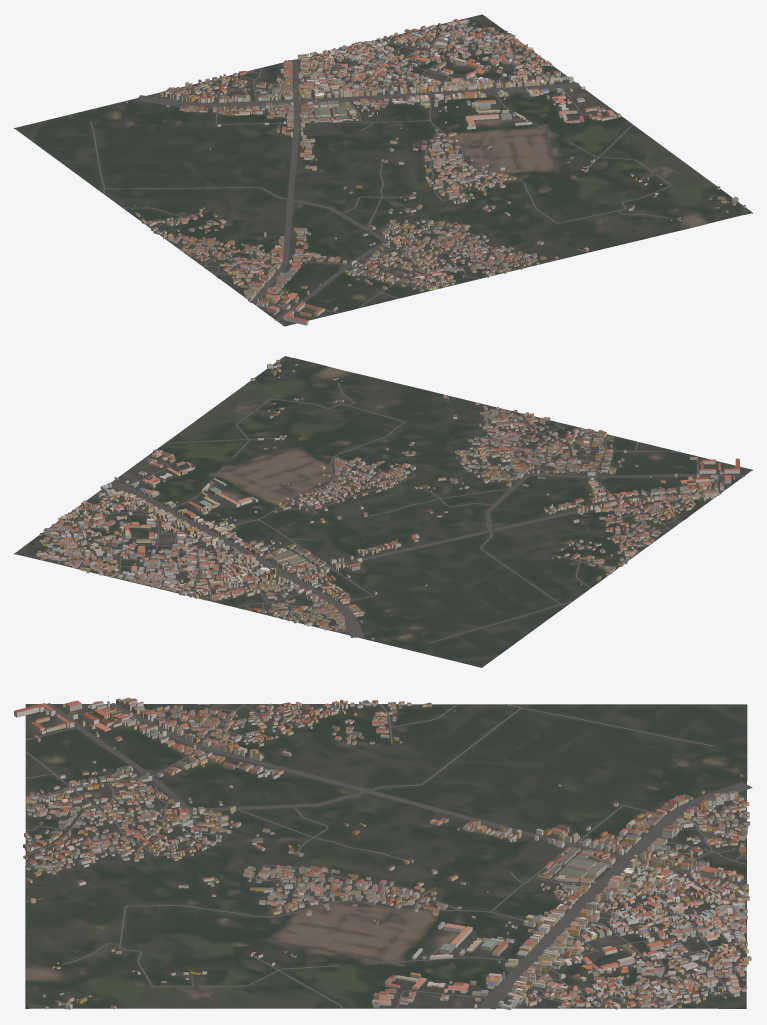
The picture shows the model from 3 angles, top to bottom: view 1: azimuth 30°, elevation 25°; view 2: azimuth 150°, elevation 25°; view 3: azimuth 270°, elevation 25°; orthographic projection. The views are drawn at different scales.
Parts seen in each view (by area): view 1: ground, buildings, roads; view 2: ground, buildings, roads; view 3: ground, buildings, roads.
Boxes of the visible parts, x1,y1,x2,y2 form: ground: (14,14,752,326); buildings: (126,19,745,325); roads: (90,21,671,320); ground: (14,356,752,667); buildings: (36,359,739,639); roads: (44,382,745,643); ground: (25,704,747,1008); buildings: (14,697,751,1009); roads: (25,703,752,1009).
Size of the model in its own units: 1414 by 27.42 by 1436.
